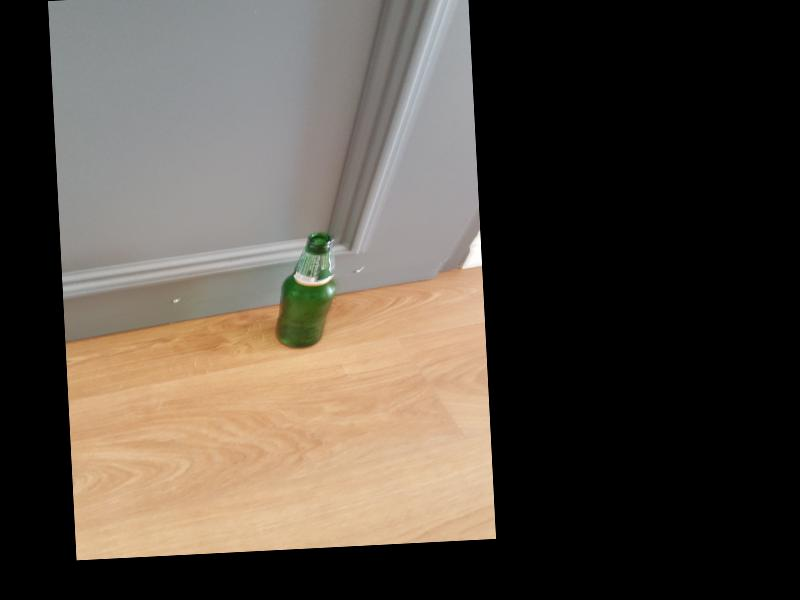Beer: (272, 233, 337, 349)
